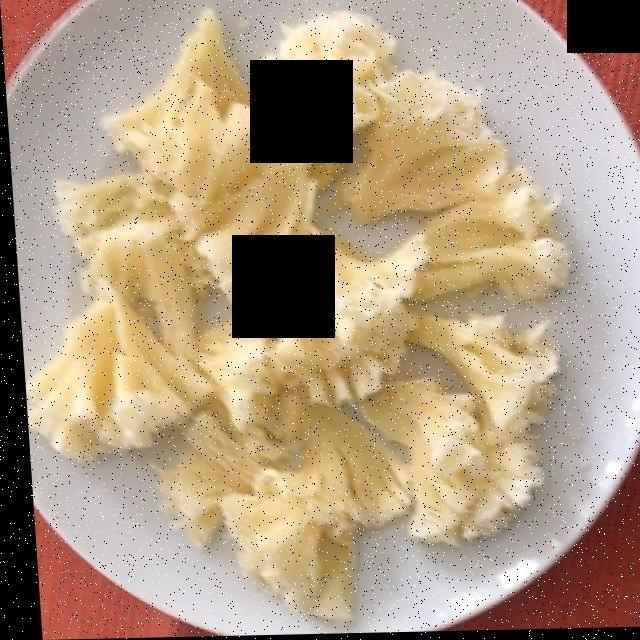tete-de-moine: (35, 18, 562, 615)
